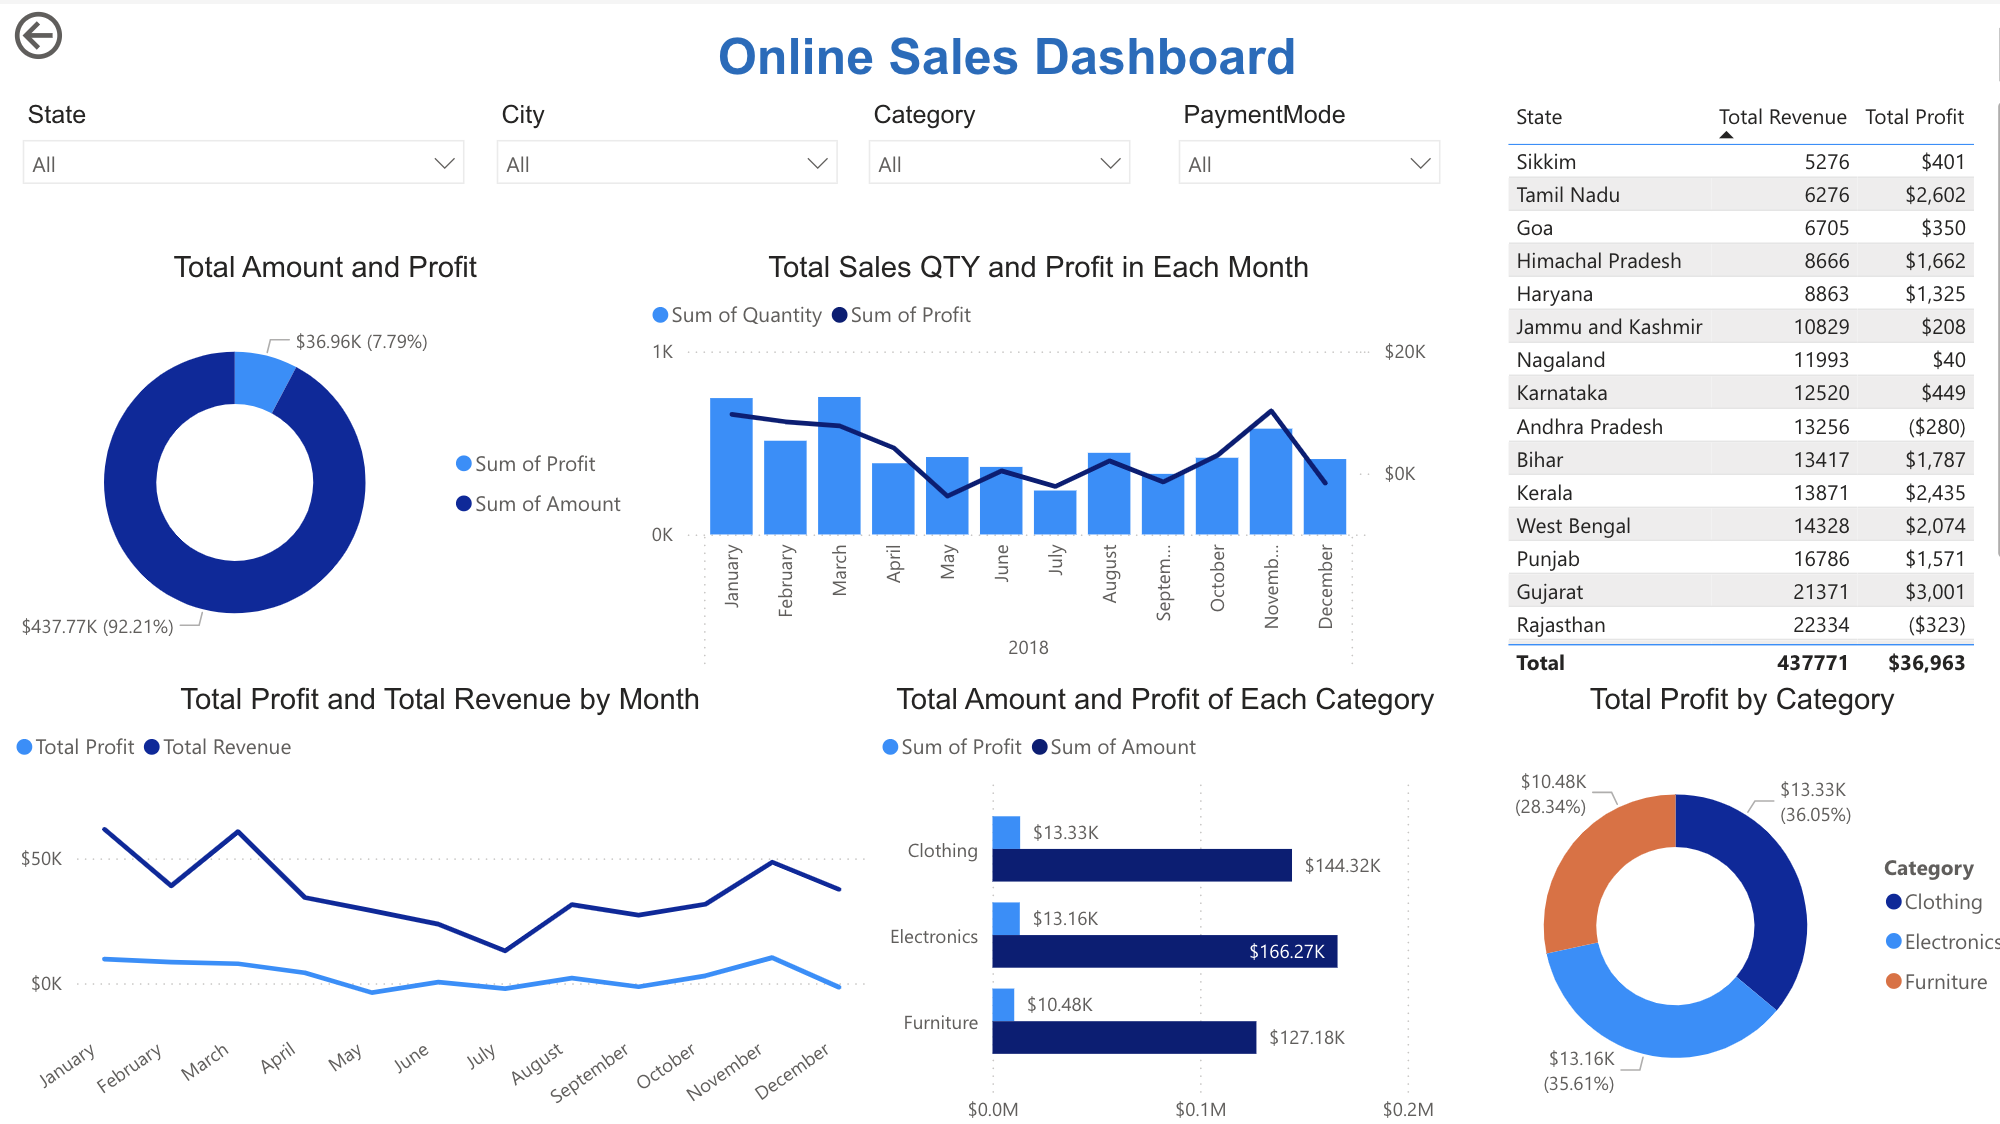

The dashboard page shown, as its layout file describes it:
{"tool":"powerbi","page":{"name":"Amount(Revenue) & Profit","canvas":[1280,720],"ordinal":1},"visuals":[{"type":"clusteredBarChart","title":"Total Amount and Profit of Each Category","fields":{"Y":["Sum(Details.Profit)","Sum(Details.Amount)"],"Category":["Details.Category"]},"box":[551.2,431.1,371.8,289.6],"z":0},{"type":"lineStackedColumnComboChart","title":"Total Sales QTY and Profit in Each Month","fields":{"Category":["Orders.Parsed Order Date.Variation.Date Hierarchy.Year","Orders.Parsed Order Date.Variation.Date Hierarchy.Month"],"Y":["Sum(Details.Quantity)"],"Y2":["Sum(Details.Profit)"]},"box":[404.7,156.3,503.4,274.8],"z":1000},{"type":"donutChart","title":"Total Amount and Profit","fields":{"Y":["Sum(Details.Profit)","Sum(Details.Amount)"]},"box":[0,156.3,404.7,274.8],"z":2000},{"type":"slicer","fields":{"Values":["Details.Category"]},"box":[538.4,56.1,186.5,72.8],"z":3000},{"type":"textbox","box":[0,10,1280,45.4],"z":4000},{"type":"areaChart","fields":{"Y":["Details.Total Profit","Details.Total Revenue"],"Category":["Orders.Parsed Order Date.Variation.Date Hierarchy.Month"]},"box":[0,431.1,551.2,291.2],"z":5000},{"type":"donutChart","fields":{"Y":["Details.Total Profit"],"Series":["Details.Category"]},"box":[923,431.1,360.3,289.6],"z":6000},{"type":"tableEx","fields":{"Values":["Orders.State","Details.Total Revenue","Details.Total Profit"]},"box":[949.3,55.9,330.7,376.8],"z":7000},{"type":"slicer","fields":{"Values":["Orders.State"]},"box":[0,55.9,301.1,72.4],"z":8000},{"type":"slicer","fields":{"Values":["Orders.City"]},"box":[301.1,55.9,236.9,72.4],"z":9000},{"type":"actionButton","box":[0,0,100,40],"z":10000},{"type":"slicer","fields":{"Values":["Details.PaymentMode"]},"box":[735.5,56.1,186.5,72.8],"z":10001}]}

Visuals, with their boxes in screenshot pixels (x1, y1, x2, y2), scaled from the page's 1280x720 canvas onto the 2000x1124 screenshot:
"Total Amount and Profit of Each Category" clusteredBarChart: rect(861, 673, 1442, 1123)
"Total Sales QTY and Profit in Each Month" lineStackedColumnComboChart: rect(632, 244, 1419, 673)
"Total Amount and Profit" donutChart: rect(0, 244, 632, 673)
slicer - Details.Category: rect(841, 88, 1133, 201)
textbox: rect(0, 16, 1999, 86)
areaChart - Details.Total Profit x Details.Total Revenue: rect(0, 673, 861, 1123)
donutChart - Details.Total Profit x Details.Category: rect(1442, 673, 1999, 1123)
tableEx - Orders.State x Details.Total Revenue: rect(1483, 87, 1999, 675)
slicer - Orders.State: rect(0, 87, 470, 200)
slicer - Orders.City: rect(470, 87, 841, 200)
actionButton: rect(0, 0, 156, 62)
slicer - Details.PaymentMode: rect(1149, 88, 1441, 201)
